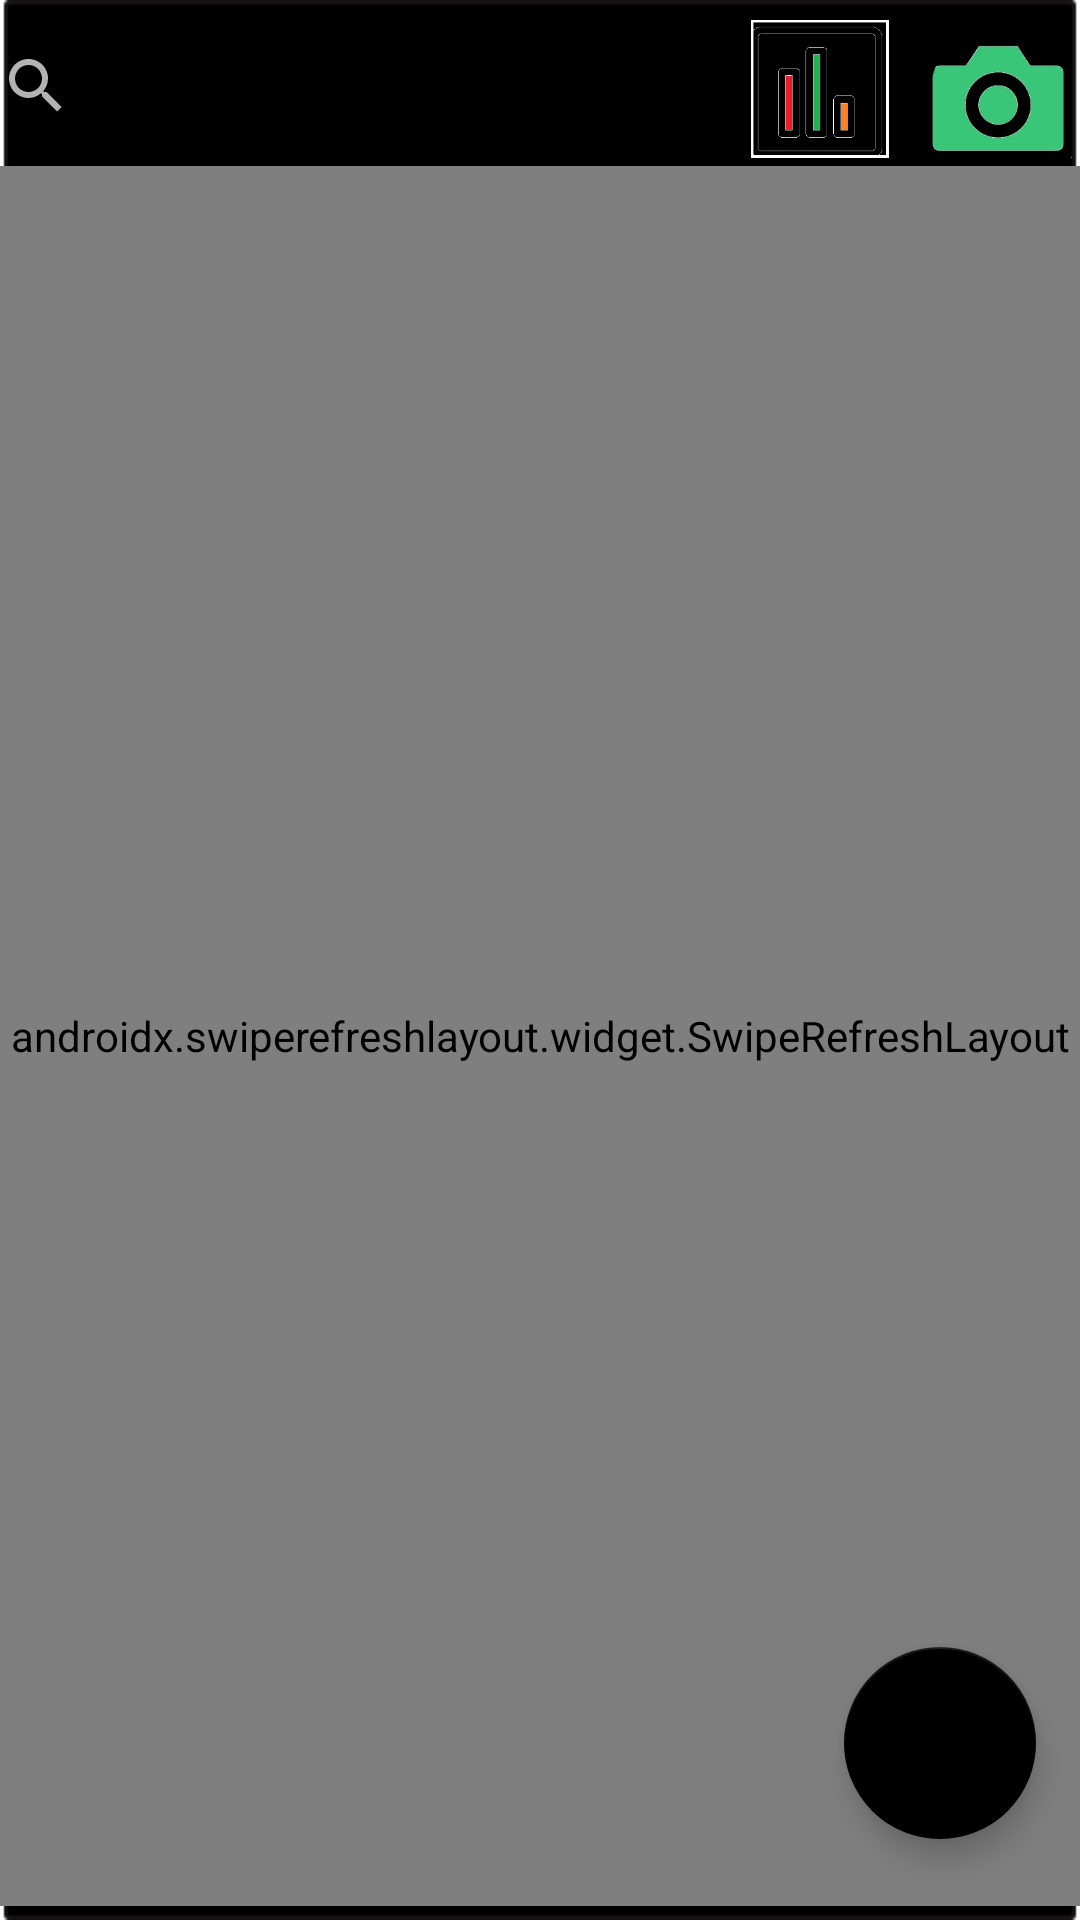

Icons on this 1080 × 1920 Android screen, each with the point to tap as (x=x, y=y):
photo: (x=1002, y=102)
stat: (x=820, y=89)
